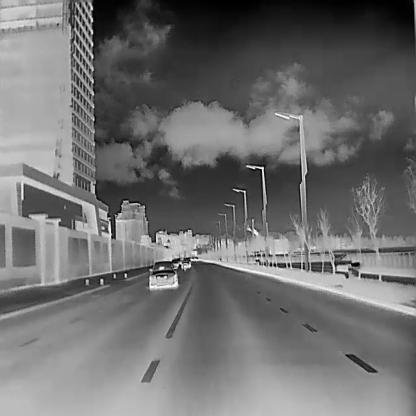car: (148, 260, 178, 289), (179, 257, 190, 268), (170, 258, 178, 268)
